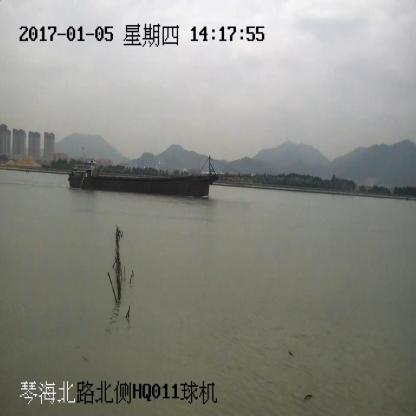Bulk Carrier: (68, 153, 242, 198)
